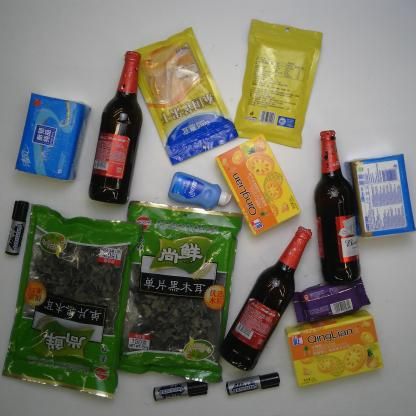Alcohol: (218, 225, 313, 372), (88, 49, 145, 206), (313, 128, 362, 286)
Dessert: (214, 132, 302, 236), (282, 310, 386, 388), (292, 276, 373, 323)
Dried Food: (1, 204, 144, 401), (113, 198, 243, 387)
Dried Fruit: (127, 25, 239, 166), (232, 18, 322, 149)
Personal Hygiene: (167, 172, 232, 208)
Stationery: (4, 198, 30, 257), (150, 380, 210, 402), (225, 373, 280, 395)
Tissue: (13, 90, 92, 186), (343, 152, 416, 240)
